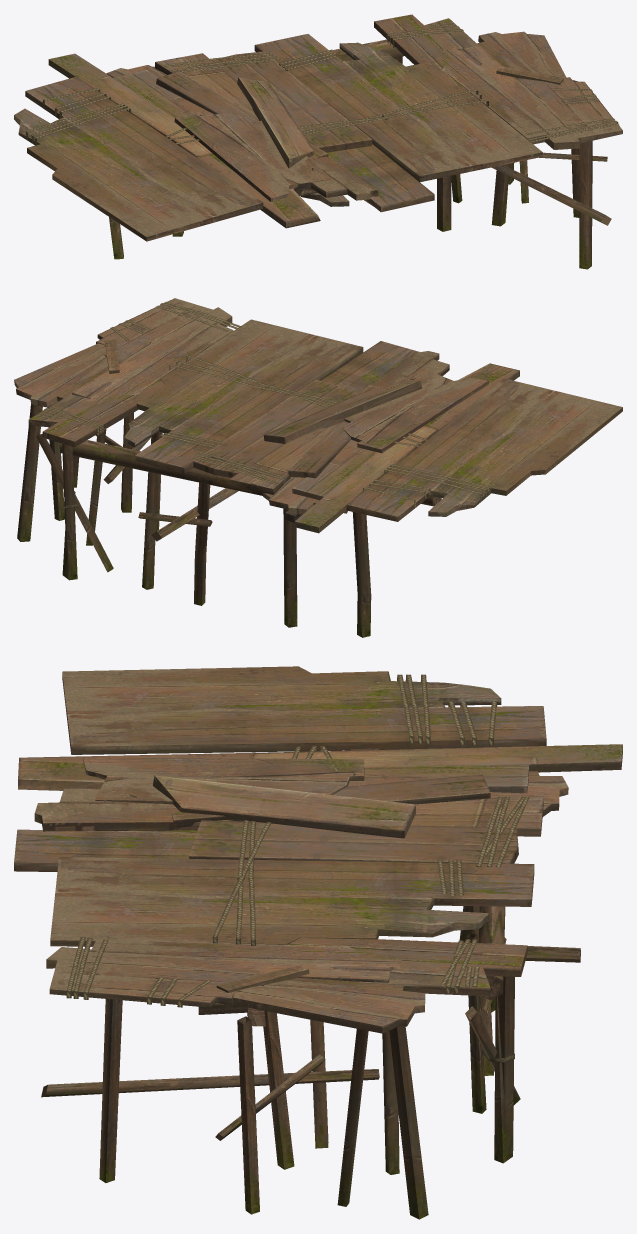
The model's file is xinshoubujian17.FBX.
3 renders of one model, top to bottom at view 1: azimuth 30°, elevation 25°; view 2: azimuth 150°, elevation 25°; view 3: azimuth 270°, elevation 25°, orthographic. The views are drawn at different scales.
Visible parts, largest first — view 1: 82; view 2: 82; view 3: 82.
Part boxes in pixels (x1,y1,x2,y2): 82: (14, 14, 622, 269); 82: (14, 298, 622, 637); 82: (14, 666, 622, 1219).
Bounding box in the file's own units: 3.17 × 0.988 × 2.34.
Materials: 1 (1 with a texture image).
